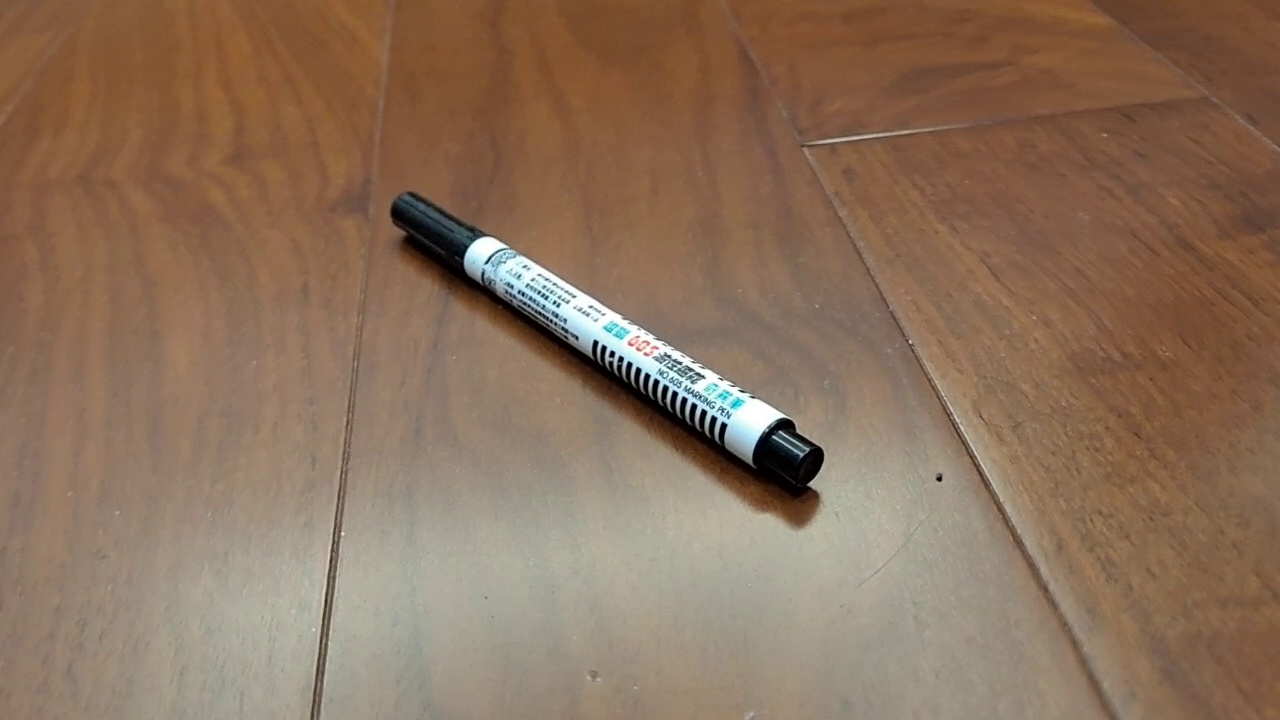pen: (389, 190, 825, 488)
